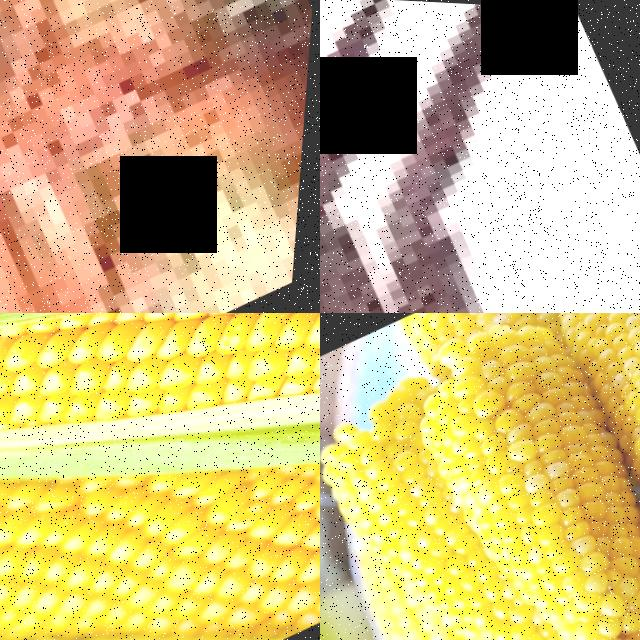corn: (0, 313, 320, 640), (0, 355, 320, 640), (376, 313, 640, 640), (320, 369, 535, 640), (514, 313, 640, 593), (379, 580, 617, 640)
crab: (320, 127, 572, 313)
